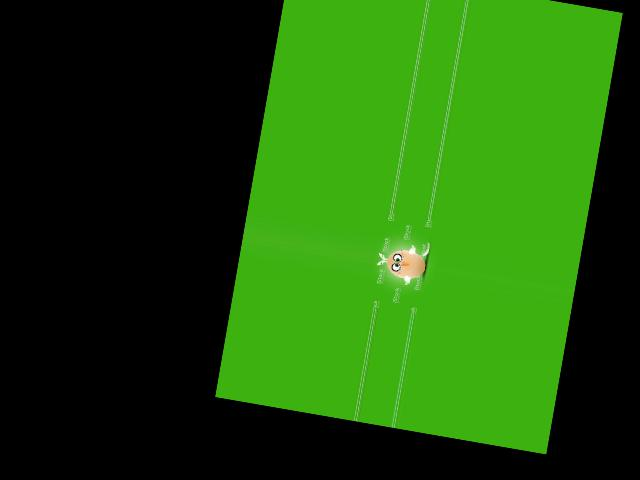egg: (385, 246, 428, 281)
